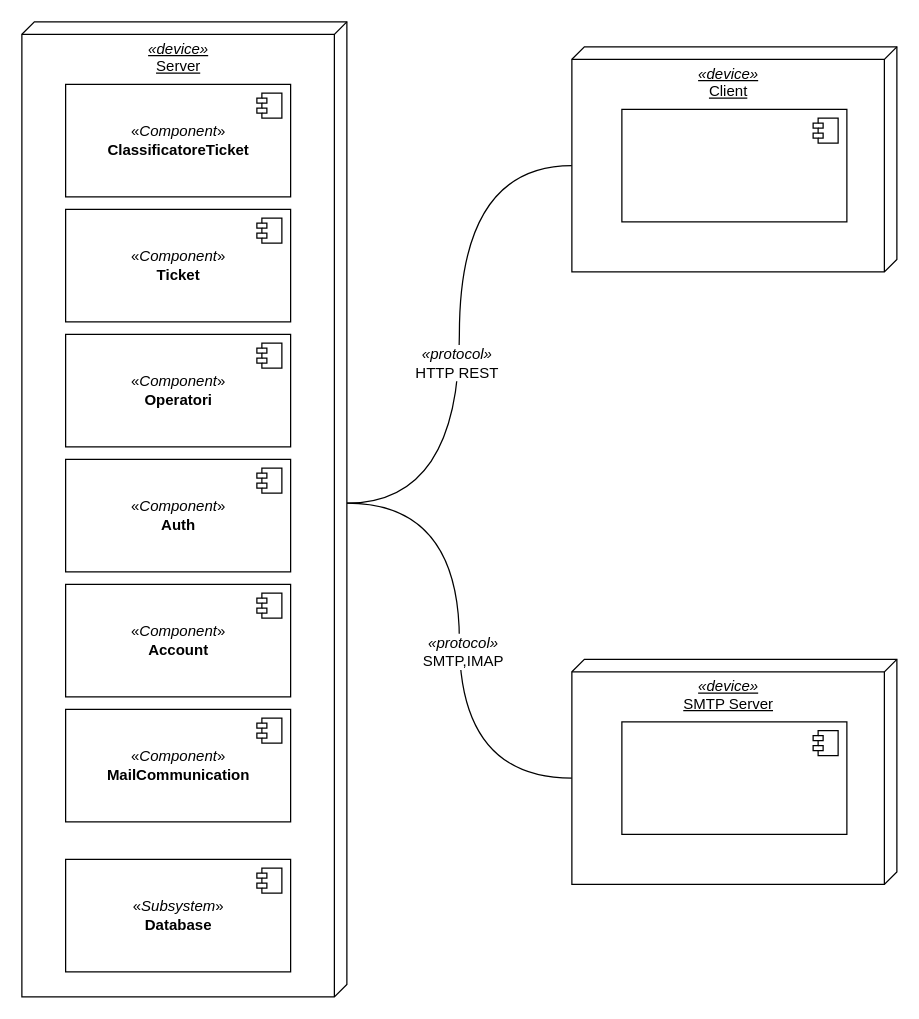
Image size: 919x1019. Some labels were removed from this diagram. Each missing label, with the centre of its shape:
"« Component » TicketFrontEnd" goes at pixel 734 165.
"« Subsystem » EmailServer" goes at pixel 734 777.
